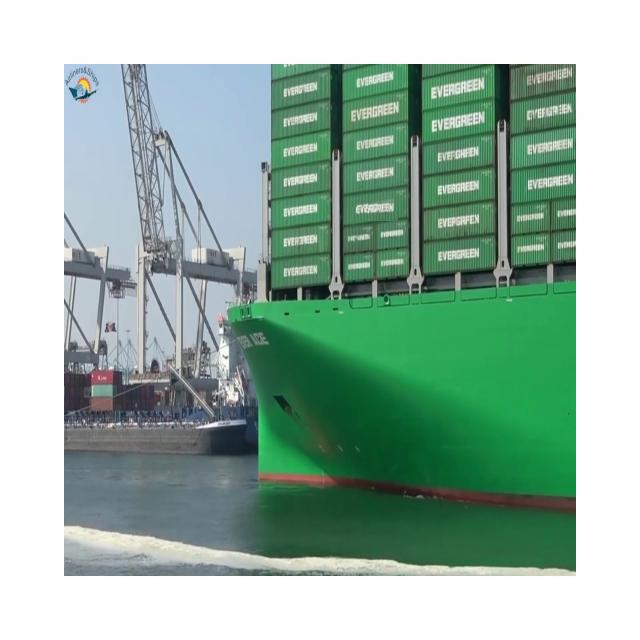OCR: (352, 195, 399, 221)
